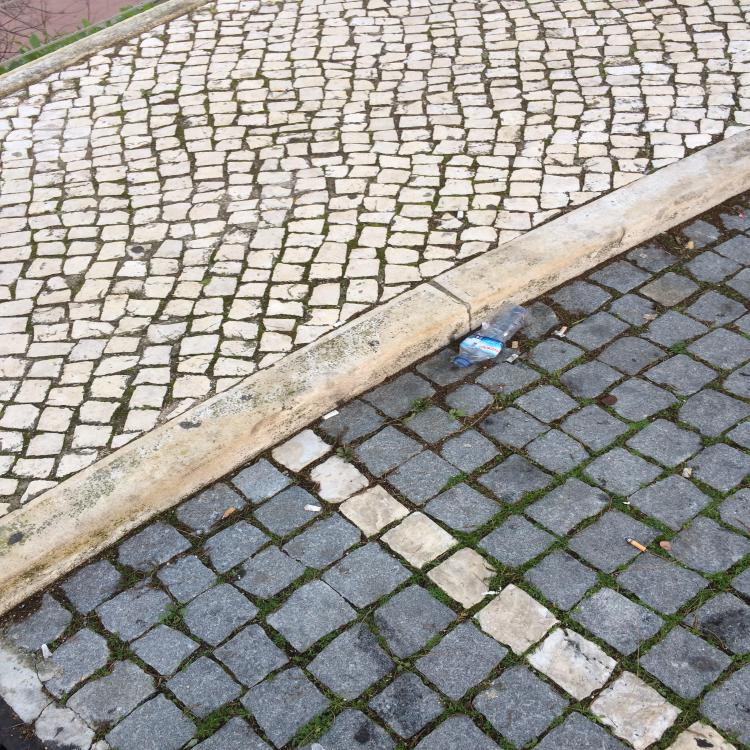Cigarette: (627, 539, 647, 552), (321, 410, 340, 420), (223, 508, 236, 520), (305, 505, 321, 512), (558, 326, 568, 336), (512, 342, 519, 348)
Clear plastic bottle: (453, 304, 530, 368)
